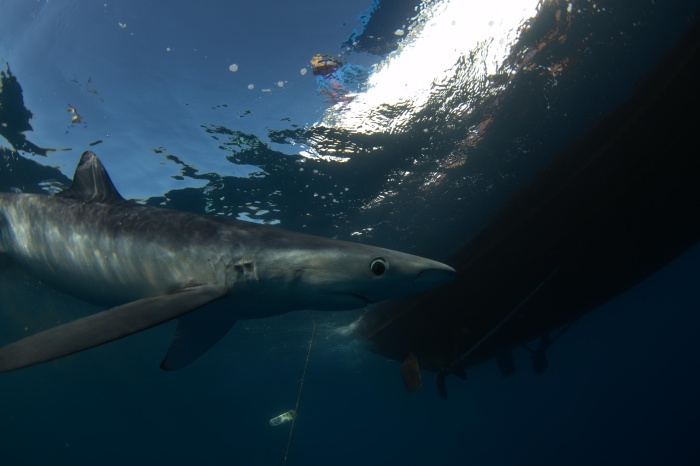Azul: (1, 77, 475, 411)
